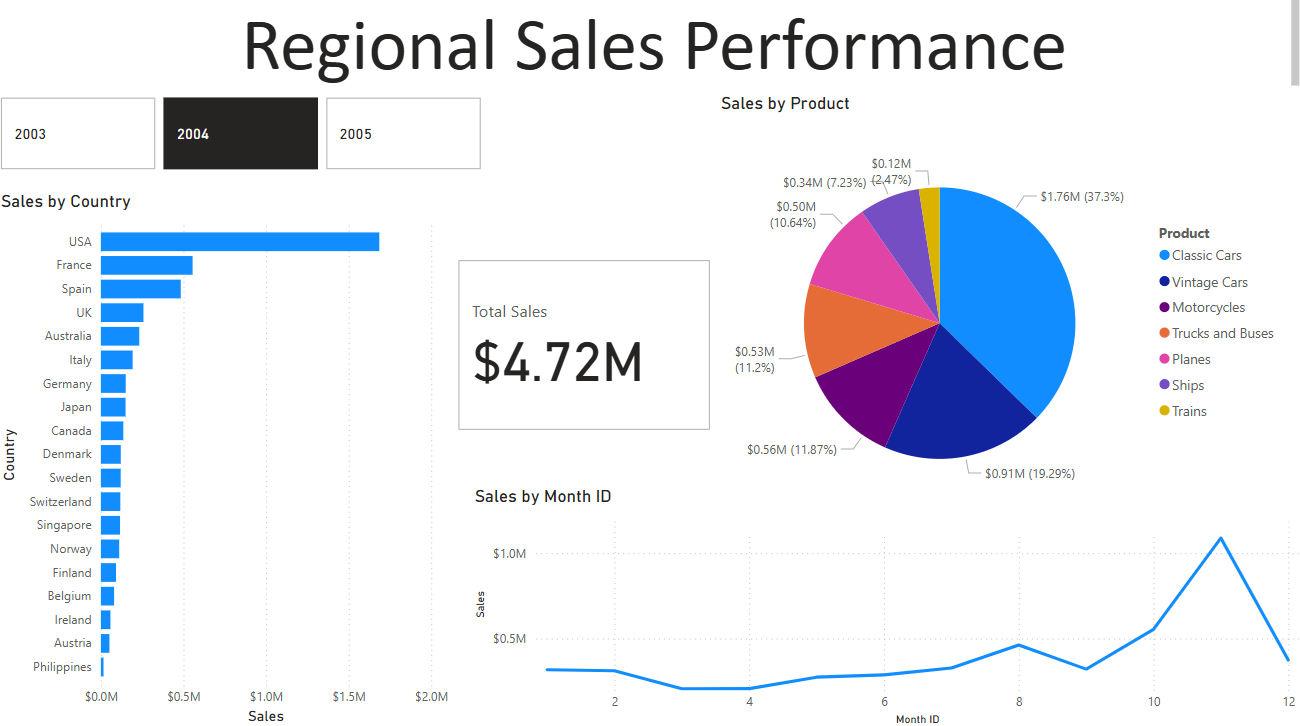

This screenshot's page, from the dashboard's own definition file:
{"tool":"powerbi","page":{"name":"Page 1","canvas":[1280,720],"ordinal":0},"visuals":[{"type":"textbox","box":[16,0,1264,96],"z":0},{"type":"advancedSlicerVisual","fields":{"Values":["sales_data_sample.YEAR_ID"]},"box":[0,96,480,80],"z":1000},{"type":"barChart","title":"Sales by Country","fields":{"Y":["Sum(sales_data_sample.SALES)"],"Category":["sales_data_sample.COUNTRY"]},"box":[0,192,448,528],"z":2000},{"type":"lineChart","fields":{"Category":["sales_data_sample.MONTH_ID"],"Y":["Sum(sales_data_sample.SALES)"]},"box":[464,480,816,240],"z":3000},{"type":"pieChart","fields":{"Y":["Sum(sales_data_sample.SALES)"],"Category":["sales_data_sample.PRODUCTLINE"]},"box":[704,96,560,432],"z":4000},{"type":"cardVisual","fields":{"Data":["Sum(sales_data_sample.SALES)"]},"box":[448,256,256,176],"z":5000}]}

Visuals, with their boxes in screenshot pixels (x1, y1, x2, y2), scaled from the page's 1280x720 canvas onto the 1300x726 screenshot:
textbox: (16,0,1299,97)
advancedSlicerVisual - sales_data_sample.YEAR_ID: (0,97,488,177)
"Sales by Country" barChart: (0,194,455,725)
lineChart - sales_data_sample.MONTH_ID x Sum(sales_data_sample.SALES): (471,484,1299,725)
pieChart - Sum(sales_data_sample.SALES) x sales_data_sample.PRODUCTLINE: (715,97,1284,532)
cardVisual - Sum(sales_data_sample.SALES): (455,258,715,436)
